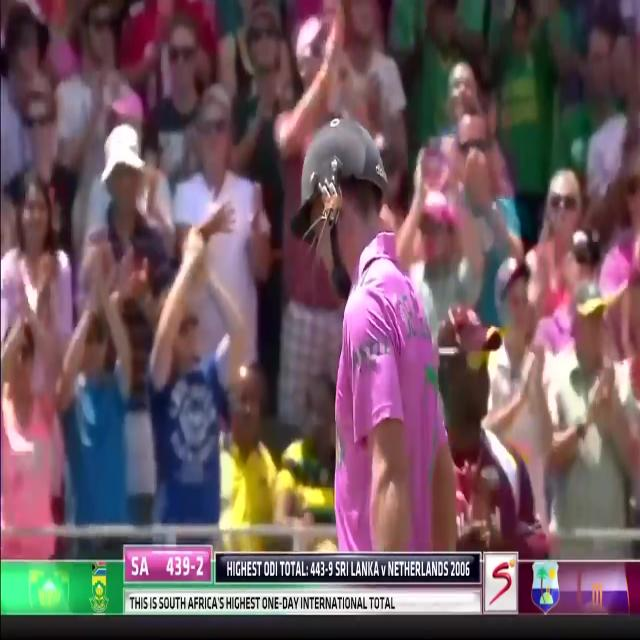Ball: (296, 122, 466, 554)
